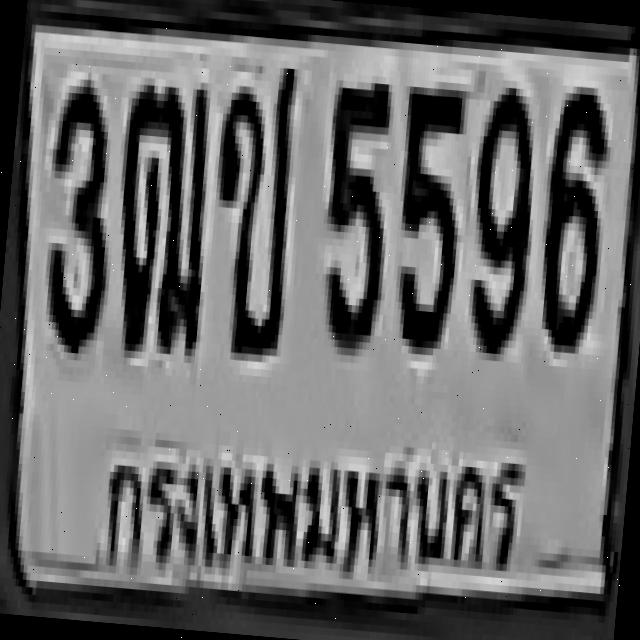19ChorChang: (199, 51, 302, 352)
27ThorPhuThao: (105, 72, 217, 352)
3: (33, 73, 119, 344)
5: (309, 68, 396, 346), (384, 76, 467, 346)
6: (534, 77, 610, 347)
9: (458, 78, 538, 348)
Bangkok: (95, 400, 540, 614)
